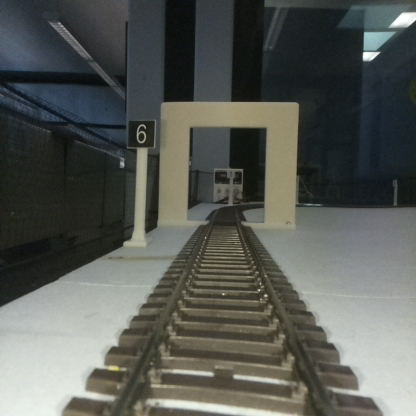black-info-6: (127, 120, 154, 245)
white-info-1: (227, 168, 235, 204)
